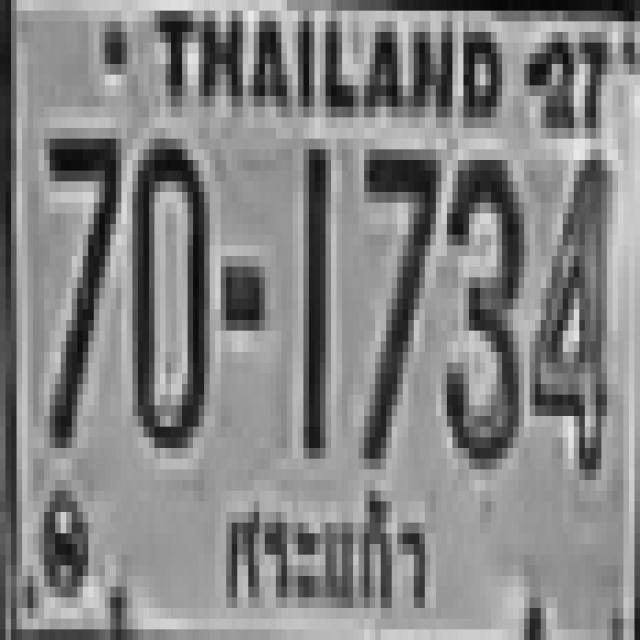0: (127, 128, 204, 437)
1: (300, 139, 322, 448)
3: (442, 149, 518, 459)
4: (527, 150, 610, 470)
7: (361, 138, 433, 458), (44, 128, 116, 437)
SaKaeo: (212, 467, 440, 627)
